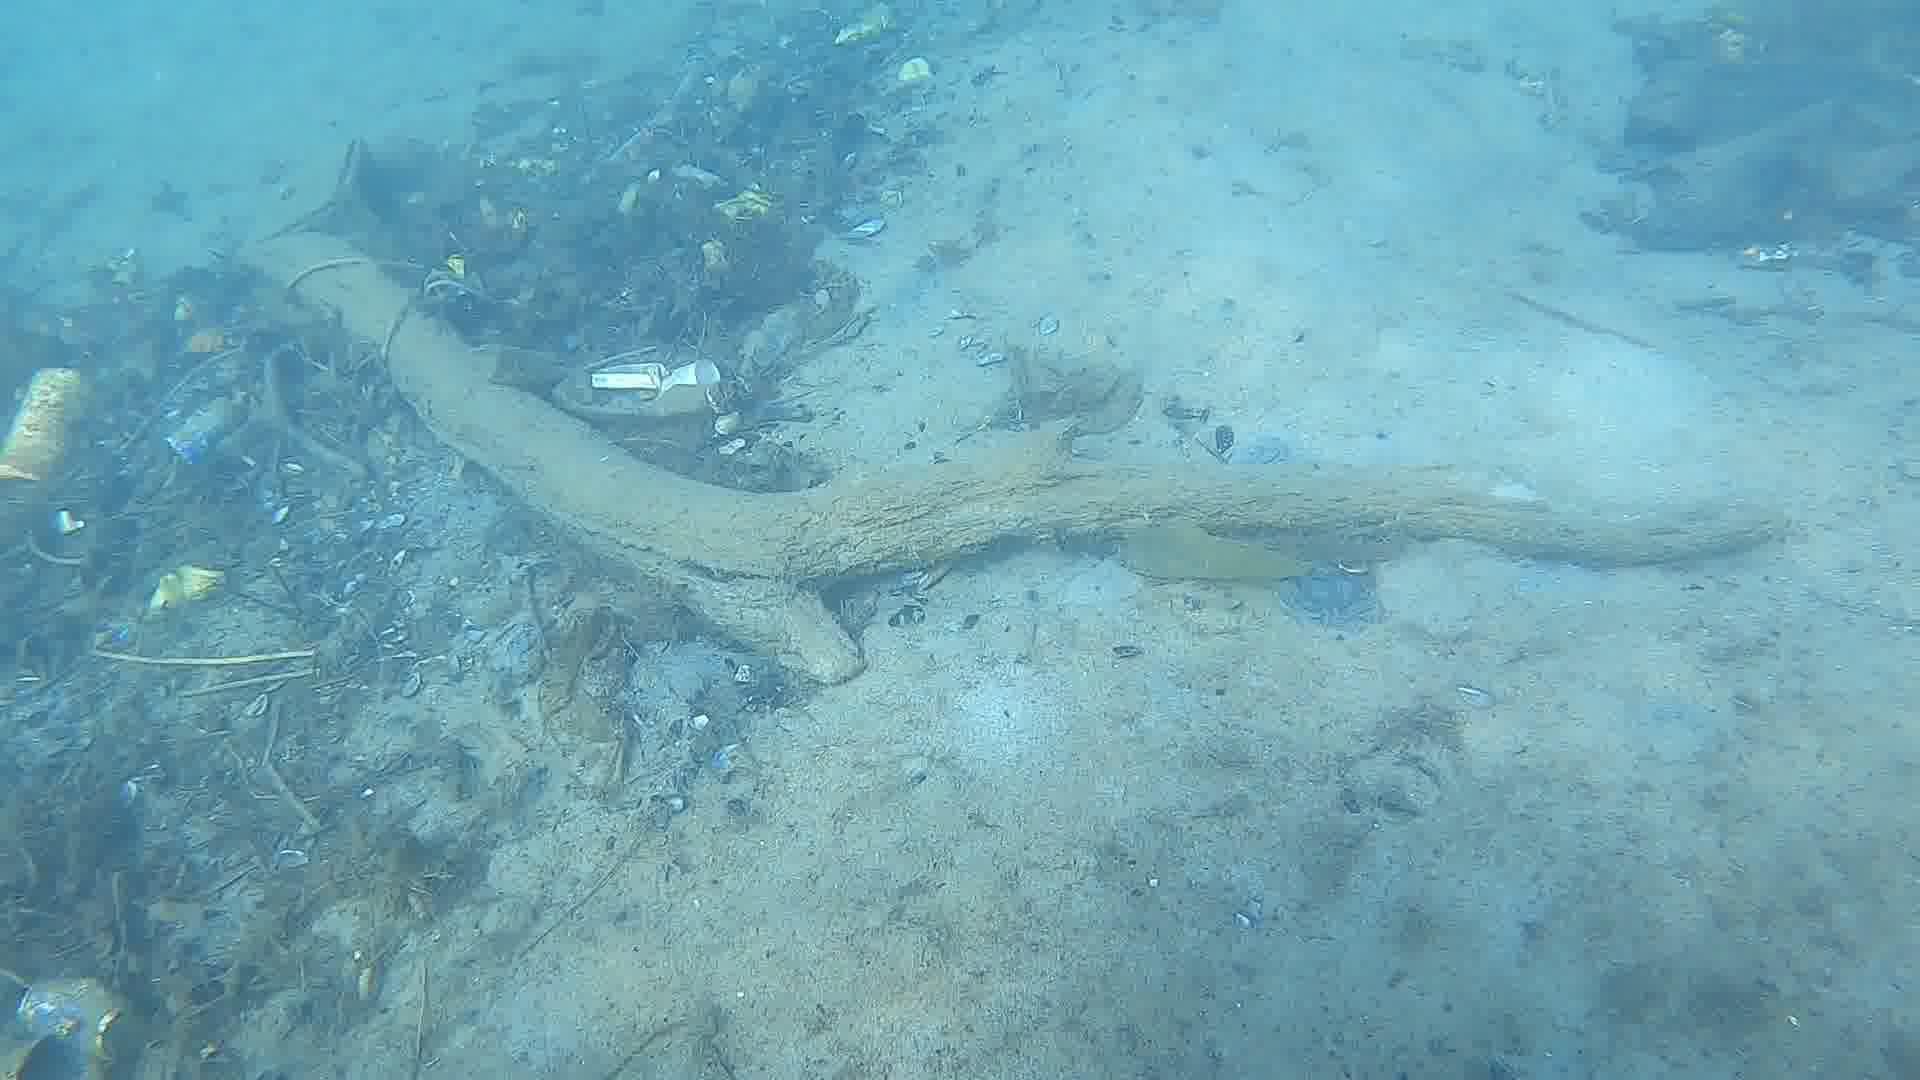wood: (243, 232, 1782, 690)
